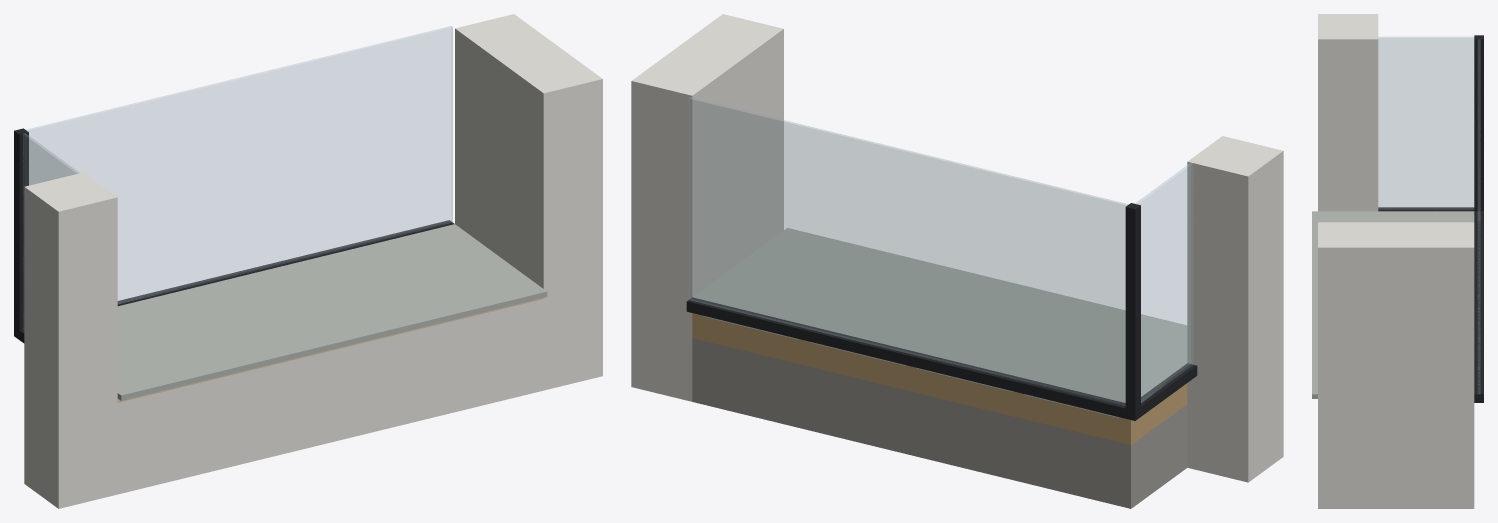
File: window-seat-rebuild-bounds-green.glb
The picture shows the model from 3 angles, left to right: view 1: azimuth 30°, elevation 25°; view 2: azimuth 150°, elevation 25°; view 3: azimuth 270°, elevation 25°; orthographic projection. The views are drawn at different scales.
Visible parts, largest first — view 1: Room: Glass, front, Room: Wall, right, Room: Front of the seat, Seat top, Room: Wall, left, Room: Frame, corner, Room: Frame, bottom front, Room: Glass, side; view 2: Room: Glass, front, Room: Wall, right, Seat top, Room: Old base, Room: Wall, left, Back rail, Room: Glass, side, Room: Frame, bottom front, Room: Frame, corner, Joist 1, Room: Frame, bottom side; view 3: Room: Wall, right, Room: Glass, side, Room: Wall, left, Seat top, Room: Frame, bottom front, Room: Frame, corner, Room: Glass, front, Room: Frame, bottom side.
Boxes of the visible parts, x1,y1,x2,y2 form: Room: Glass, front: (26, 26, 452, 303); Room: Wall, right: (455, 14, 602, 390); Room: Front of the seat: (117, 299, 543, 494); Seat top: (117, 224, 547, 400); Room: Wall, left: (24, 172, 117, 508); Room: Frame, corner: (14, 128, 28, 330); Room: Frame, bottom front: (14, 220, 454, 339); Room: Glass, side: (23, 133, 79, 329); Room: Glass, front: (689, 97, 1128, 405); Room: Wall, right: (631, 14, 783, 401); Seat top: (693, 228, 1187, 402); Room: Old base: (692, 338, 1187, 508); Room: Wall, left: (1187, 136, 1283, 482); Back rail: (692, 314, 1137, 444); Room: Glass, side: (1135, 163, 1193, 402); Room: Frame, bottom front: (686, 297, 1140, 420); Room: Frame, corner: (1125, 203, 1140, 410); Joist 1: (1137, 383, 1187, 440); Room: Frame, bottom side: (1141, 363, 1197, 416); Room: Wall, right: (1318, 222, 1474, 508); Room: Glass, side: (1378, 37, 1473, 209); Room: Wall, left: (1318, 14, 1378, 211); Seat top: (1312, 211, 1474, 398); Room: Frame, bottom front: (1474, 211, 1483, 402); Room: Frame, corner: (1474, 35, 1483, 211); Room: Glass, front: (1478, 39, 1480, 393); Room: Frame, bottom side: (1378, 207, 1474, 211).
Size of the model in its own units: 2.3 by 1.2 by 0.715.
